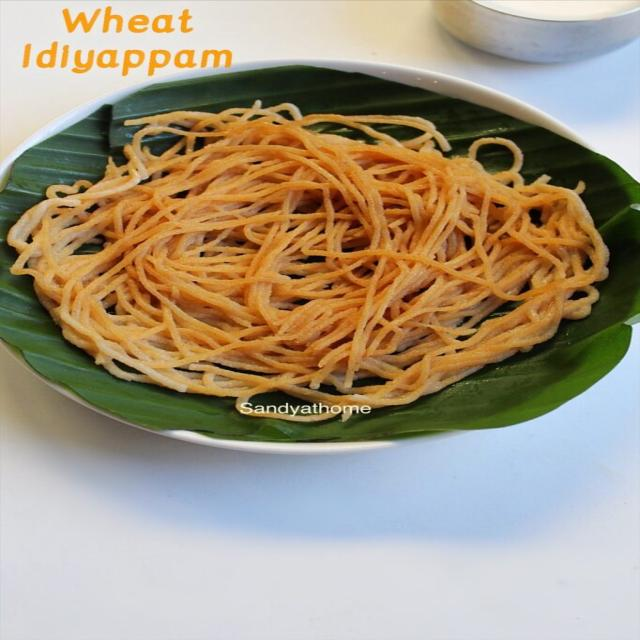IDIYAPPAM: (0, 100, 626, 411)
